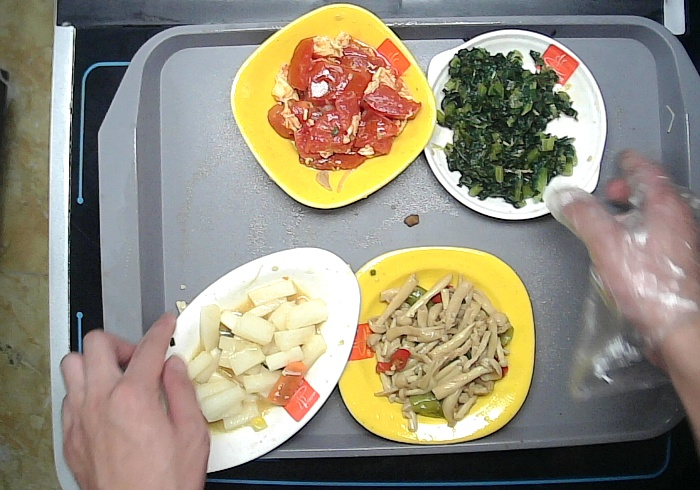SHKJ-Bao_Yu_Pan: (423, 27, 609, 221)
SHKJ-Huang_Se_Cai_Die: (226, 1, 438, 210)
SHKJ-Huang_Se_Si_Fang_Cai_Die: (336, 244, 537, 446)
SHKJ-Yu_Pan: (162, 245, 362, 474)
